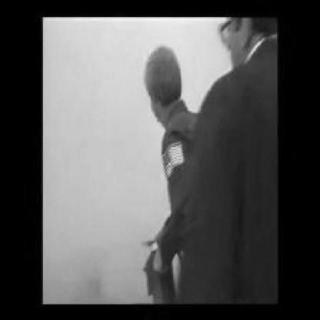other: (138, 237, 176, 301)
